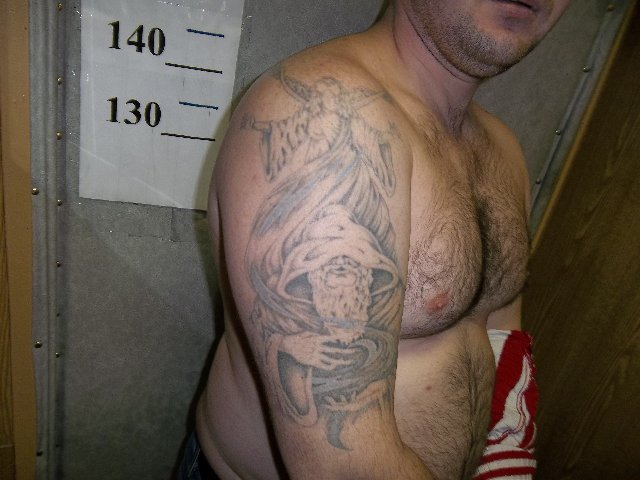tatu1_angel: (230, 62, 410, 229)
